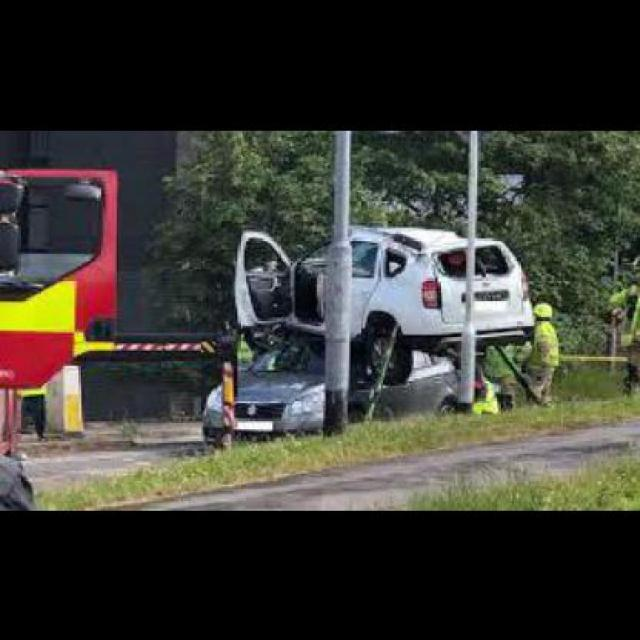accident: (198, 206, 540, 434)
